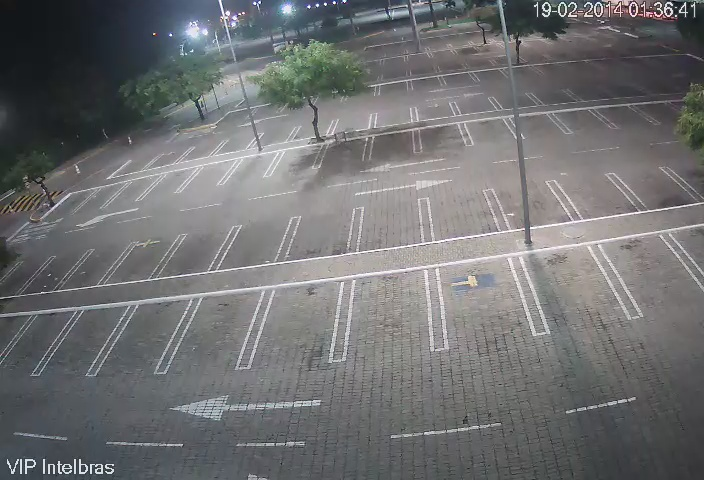lot: (341, 263, 443, 359), (592, 231, 698, 311), (433, 260, 531, 342), (523, 250, 627, 321), (270, 273, 341, 371), (185, 289, 258, 379), (123, 296, 178, 382), (358, 194, 432, 249), (551, 176, 640, 219), (422, 194, 506, 239), (293, 207, 357, 260), (62, 306, 111, 375), (615, 172, 691, 216), (494, 185, 577, 222), (230, 222, 279, 274), (16, 309, 52, 374), (168, 227, 220, 272), (510, 111, 571, 148), (122, 233, 163, 283), (74, 244, 114, 289), (414, 127, 470, 159), (369, 133, 421, 167), (461, 121, 517, 152), (553, 112, 615, 140), (595, 104, 659, 130), (35, 252, 69, 300), (277, 144, 321, 181), (322, 137, 371, 169), (234, 154, 278, 186), (153, 161, 187, 201), (191, 161, 232, 193), (118, 178, 152, 211), (9, 257, 34, 298), (456, 92, 496, 116), (85, 182, 115, 211), (534, 85, 579, 104), (414, 103, 457, 122), (372, 108, 416, 126), (58, 190, 84, 220), (495, 92, 538, 110), (122, 154, 154, 177), (222, 131, 252, 155), (334, 114, 371, 133), (298, 121, 335, 139), (258, 128, 292, 147), (153, 147, 186, 166), (187, 142, 216, 163)
